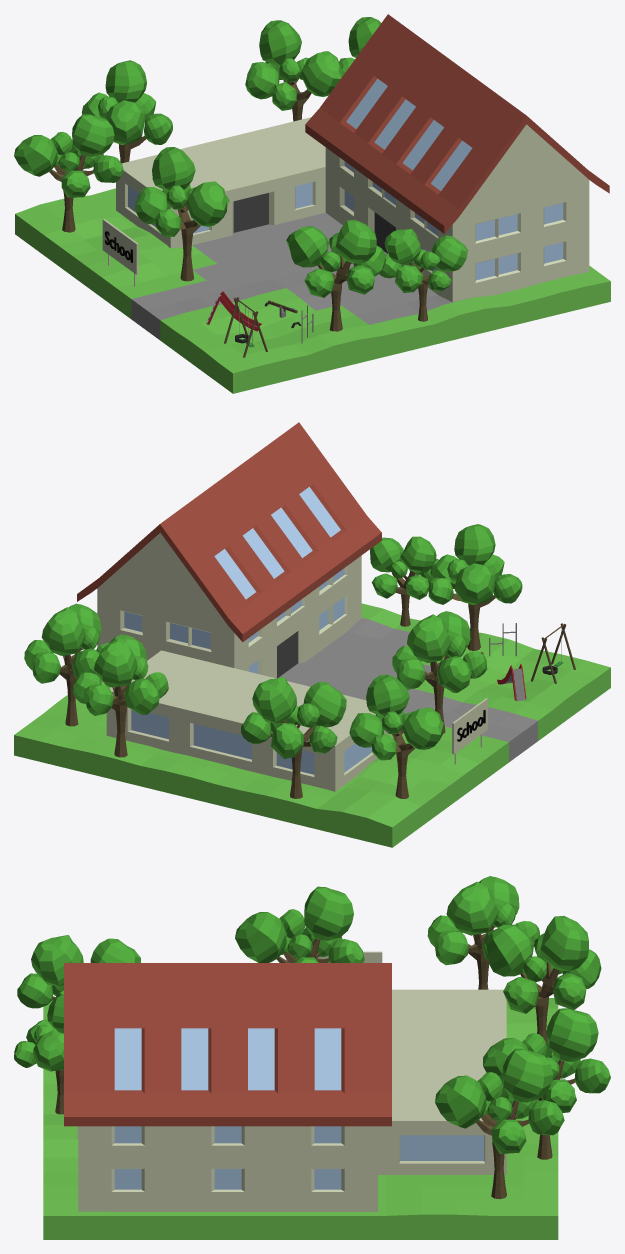
The model's file is School_7.fbx.
3 renders of one model, top to bottom at view 1: azimuth 30°, elevation 25°; view 2: azimuth 150°, elevation 25°; view 3: azimuth 270°, elevation 25°, orthographic. The views are drawn at different scales.
Parts seen in each view (by area): view 1: Text; view 2: Text; view 3: Text.
Part boxes in pixels (bbox=[...]): Text: bbox=[14, 14, 610, 393]; Text: bbox=[14, 422, 610, 847]; Text: bbox=[14, 876, 610, 1239].
Bounding box in the file's own units: 1786 × 823 × 1905.
